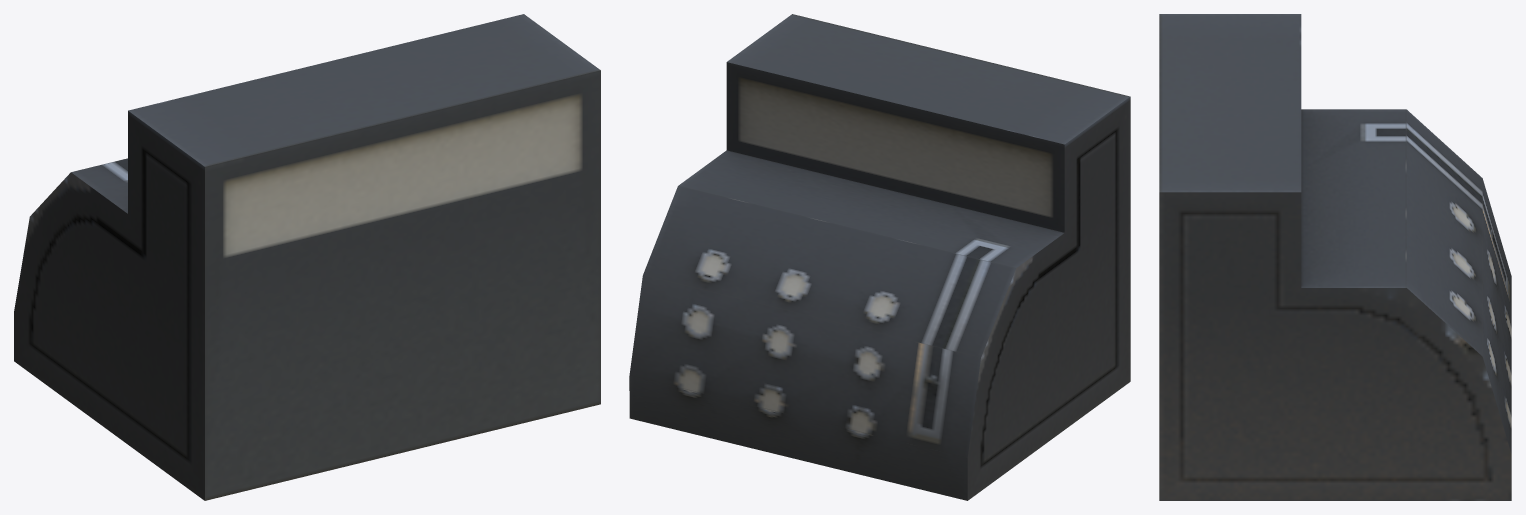
Rendered from teller01.fbx.
The picture shows the model from 3 angles, left to right: view 1: azimuth 30°, elevation 25°; view 2: azimuth 150°, elevation 25°; view 3: azimuth 270°, elevation 25°; orthographic projection. The views are drawn at different scales.
Parts seen in each view (by area): view 1: teller; view 2: teller; view 3: teller.
Part boxes in pixels (<box>): teller: <box>14,14,600,500</box>; teller: <box>629,14,1130,500</box>; teller: <box>1159,14,1511,500</box>.
Size of the model in its own units: 0.3156 by 0.2633 by 0.2544.
1 material, 1 textured.
